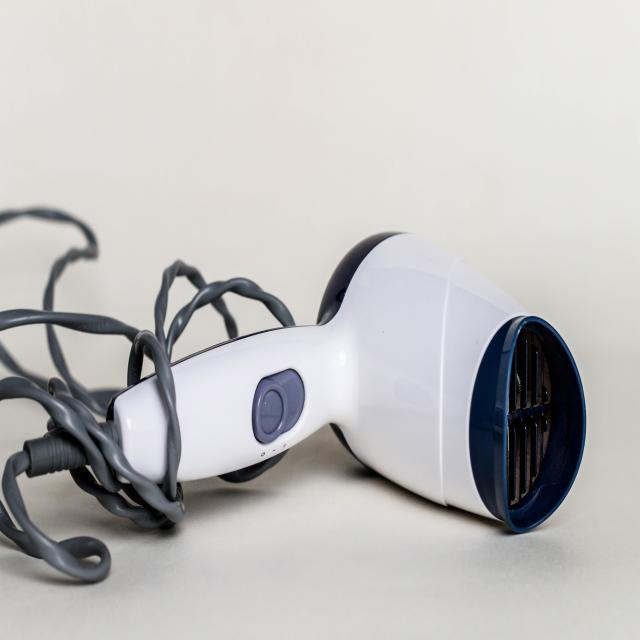dryer: (23, 227, 590, 538)
